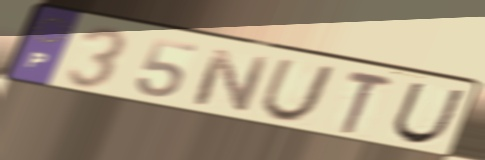3: (64, 24, 134, 93)
5: (134, 35, 202, 99)
N: (189, 45, 273, 115)
T: (339, 68, 397, 137)
U: (256, 57, 339, 124), (388, 79, 468, 145)
